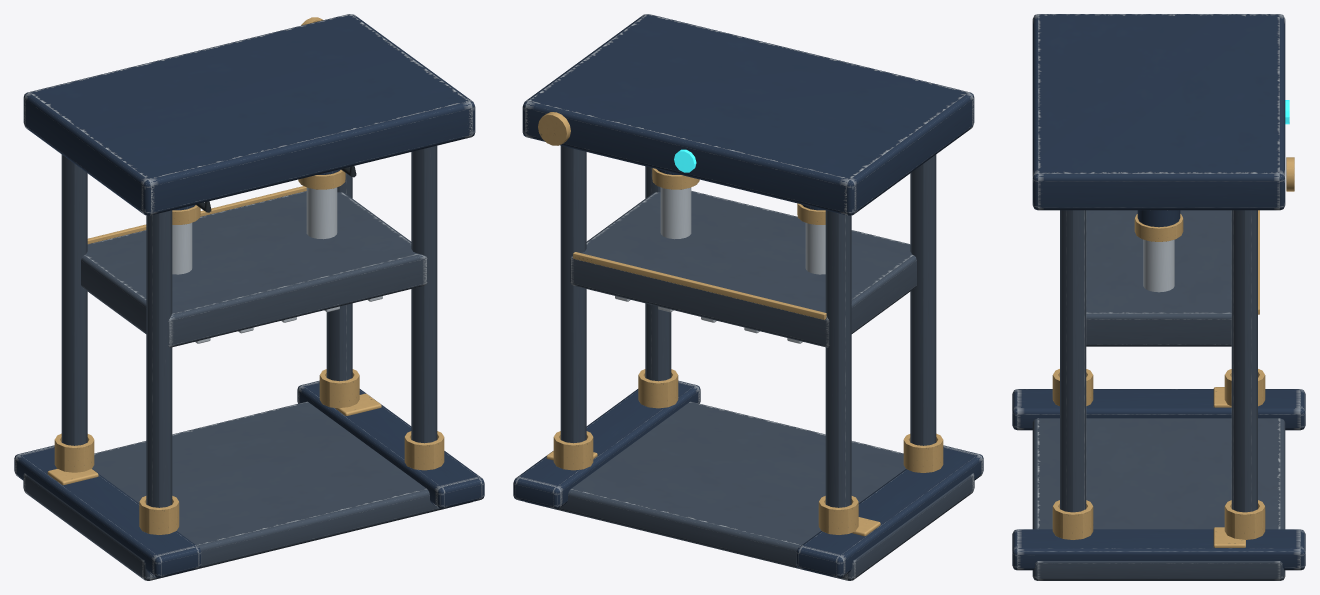
File: hydraulic_press.glb
The picture shows the model from 3 angles, left to right: view 1: azimuth 30°, elevation 25°; view 2: azimuth 150°, elevation 25°; view 3: azimuth 270°, elevation 25°; orthographic projection.
Parts seen in each view (by area): view 1: hydraulic_press__crown, hydraulic_press__ground_foundation, hydraulic_press__platen, hydraulic_press__column_2, hydraulic_press__column_3, hydraulic_press__column_0, hydraulic_press__foot_neg1, hydraulic_press__foot_1, hydraulic_press__column_1, hydraulic_press__telescopic_stage_1, hydraulic_press__column_collar_3, hydraulic_press__column_collar_2 (+5 smaller); view 2: hydraulic_press__crown, hydraulic_press__ground_foundation, hydraulic_press__platen, hydraulic_press__column_0, hydraulic_press__column_1, hydraulic_press__column_2, hydraulic_press__foot_neg1, hydraulic_press__foot_1, hydraulic_press__column_3, hydraulic_press__platen_band, hydraulic_press__telescopic_stage_1, hydraulic_press__column_collar_3 (+6 smaller); view 3: hydraulic_press__crown, hydraulic_press__ground_foundation, hydraulic_press__platen, hydraulic_press__foot_1, hydraulic_press__column_1, hydraulic_press__column_3, hydraulic_press__foot_neg1, hydraulic_press__telescopic_stage_1, hydraulic_press__column_collar_3, hydraulic_press__column_collar_1, hydraulic_press__gland_1, hydraulic_press__hydraulic_barrel_1 (+3 smaller).
Boxes of the visible parts, bbox=[...] form: hydraulic_press__crown: bbox=[23, 14, 475, 215]; hydraulic_press__ground_foundation: bbox=[23, 401, 472, 580]; hydraulic_press__platen: bbox=[81, 191, 427, 347]; hydraulic_press__column_2: bbox=[146, 210, 172, 507]; hydraulic_press__column_3: bbox=[411, 145, 437, 443]; hydraulic_press__column_0: bbox=[61, 154, 87, 445]; hydraulic_press__foot_neg1: bbox=[14, 445, 201, 577]; hydraulic_press__foot_1: bbox=[297, 380, 484, 508]; hydraulic_press__column_1: bbox=[326, 167, 352, 381]; hydraulic_press__telescopic_stage_1: bbox=[306, 187, 337, 239]; hydraulic_press__column_collar_3: bbox=[404, 431, 444, 470]; hydraulic_press__column_collar_2: bbox=[139, 496, 179, 535]; hydraulic_press__crown: bbox=[522, 14, 974, 215]; hydraulic_press__ground_foundation: bbox=[525, 401, 974, 580]; hydraulic_press__platen: bbox=[570, 191, 916, 347]; hydraulic_press__column_0: bbox=[825, 210, 851, 507]; hydraulic_press__column_1: bbox=[560, 145, 586, 443]; hydraulic_press__column_2: bbox=[910, 154, 936, 445]; hydraulic_press__foot_neg1: bbox=[796, 445, 983, 577]; hydraulic_press__foot_1: bbox=[513, 380, 700, 508]; hydraulic_press__column_3: bbox=[645, 166, 671, 381]; hydraulic_press__platen_band: bbox=[573, 252, 826, 319]; hydraulic_press__telescopic_stage_1: bbox=[660, 187, 691, 239]; hydraulic_press__column_collar_3: bbox=[638, 369, 678, 408]; hydraulic_press__crown: bbox=[1032, 14, 1285, 210]; hydraulic_press__ground_foundation: bbox=[1032, 418, 1285, 580]; hydraulic_press__platen: bbox=[1086, 210, 1231, 346]; hydraulic_press__foot_1: bbox=[1012, 529, 1305, 570]; hydraulic_press__column_1: bbox=[1231, 210, 1257, 512]; hydraulic_press__column_3: bbox=[1060, 210, 1086, 512]; hydraulic_press__foot_neg1: bbox=[1012, 389, 1305, 430]; hydraulic_press__telescopic_stage_1: bbox=[1143, 239, 1174, 292]; hydraulic_press__column_collar_3: bbox=[1052, 500, 1093, 539]; hydraulic_press__column_collar_1: bbox=[1224, 500, 1265, 539]; hydraulic_press__gland_1: bbox=[1134, 214, 1183, 241]; hydraulic_press__hydraulic_barrel_1: bbox=[1137, 210, 1180, 227].
Size of the model in its own units: 1.92 by 2.22 by 1.45.
2 materials, 2 textured.
